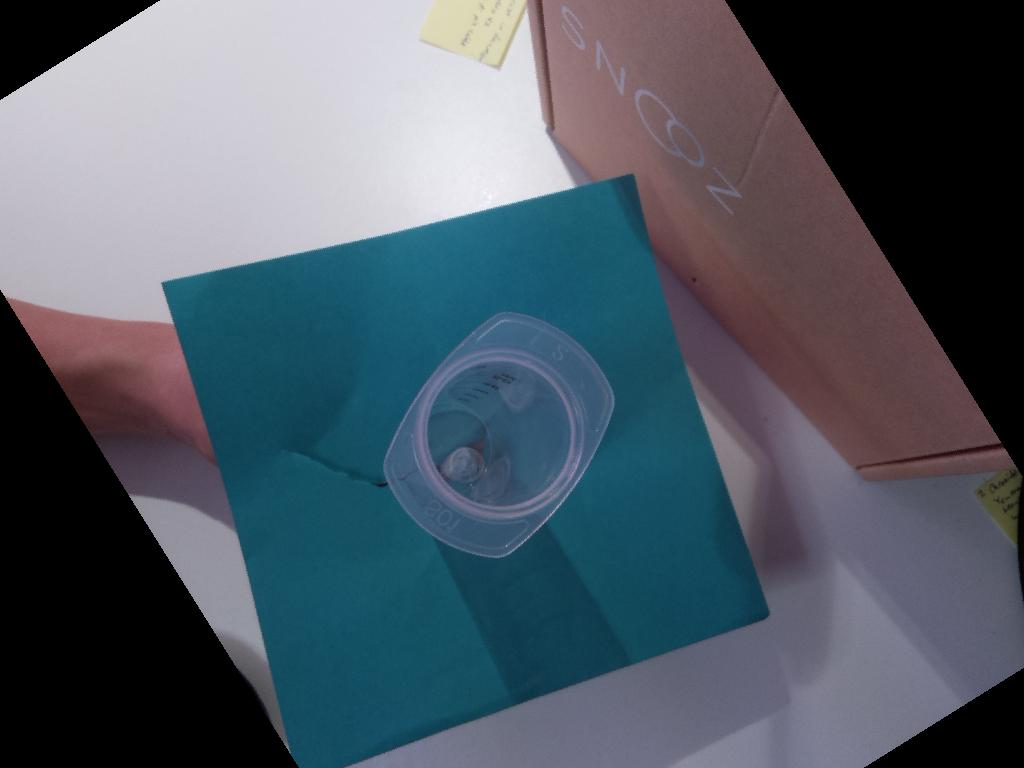clean: (384, 310, 614, 560)
